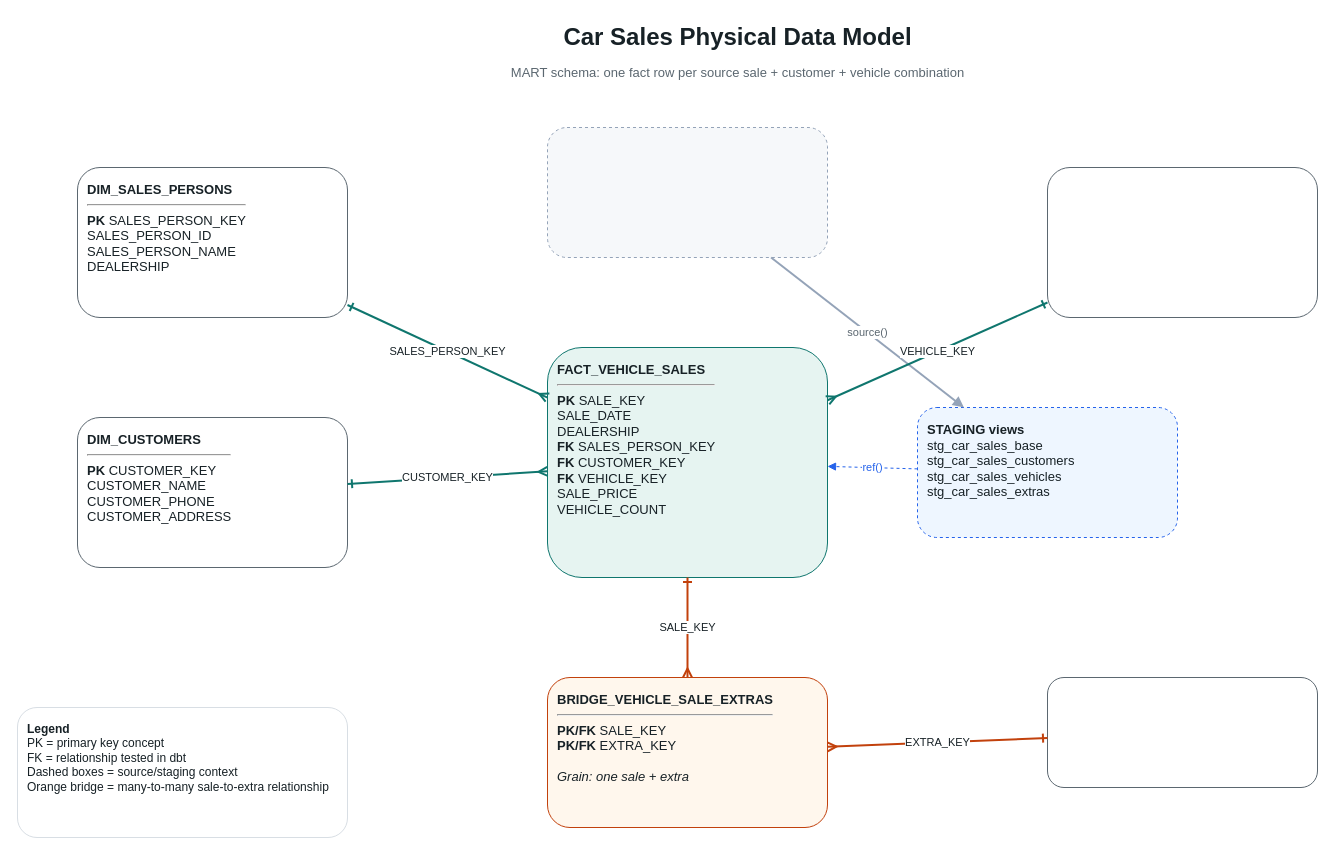
The diagram is 1335 pixels wide and 855 high, and some of its shapes have lost their labels. Here are the shapes that lost their labels. From the top down, the box of each, then its label:
(546, 126, 828, 258): PUBLIC.CAR_SALES SRC VARIANT Raw JSON source
(1046, 166, 1318, 318): DIM_VEHICLES PK VEHICLE_KEY MAKE MODEL YEAR
(1046, 676, 1318, 788): DIM_EXTRAS PK EXTRA_KEY EXTRA
